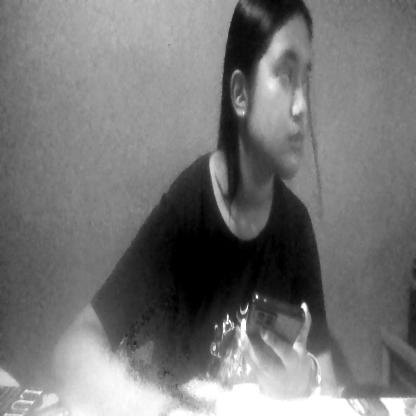Distracted: (236, 0, 312, 183)
